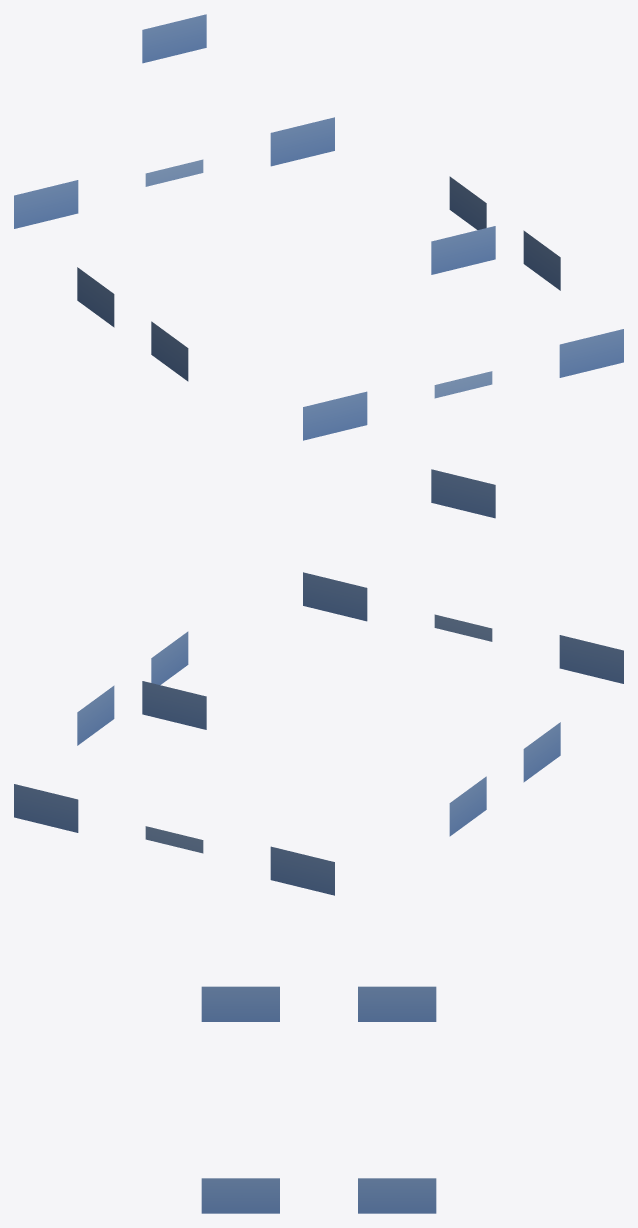
The model's file is 052_2_0_building-m_1.glb.
3 views of the same model, one above another, from view 1: azimuth 30°, elevation 25°; view 2: azimuth 150°, elevation 25°; view 3: azimuth 270°, elevation 25° (orthographic). The views are drawn at different scales.
Visible parts, largest first — view 1: 2_0_building-m_1; view 2: 2_0_building-m_1; view 3: 2_0_building-m_1.
Boxes of the visible parts, left/top/right/bottom form: 2_0_building-m_1: left=14, top=14, right=623, bottom=440; 2_0_building-m_1: left=14, top=469, right=623, bottom=895; 2_0_building-m_1: left=201, top=986, right=436, bottom=1213.
Bounding box in the file's own units: 1.16 × 0.5 × 1.56.
Materials: 1 (1 with a texture image).
